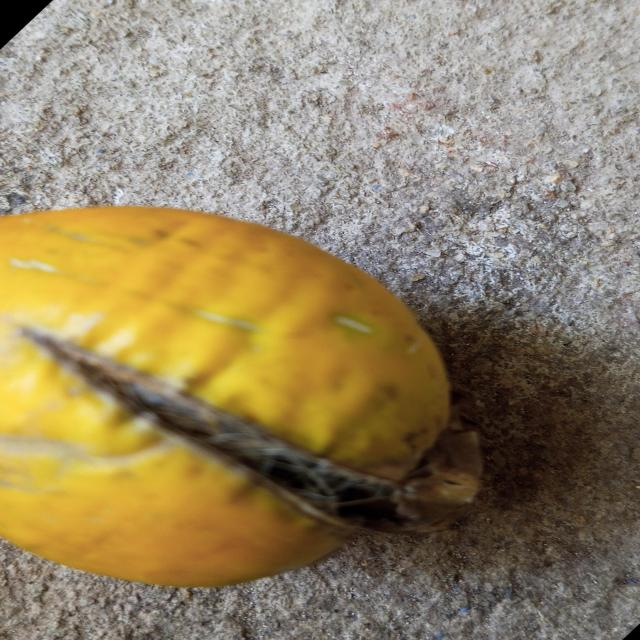damaged: (0, 206, 480, 591)
